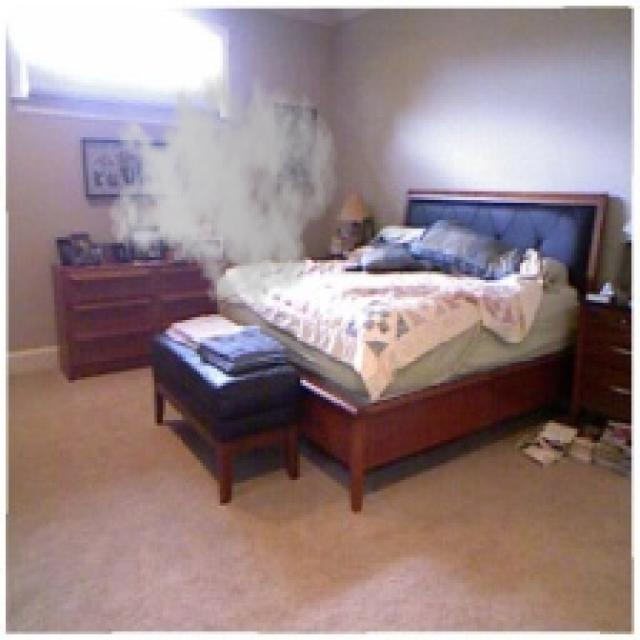Smoke: (108, 43, 340, 314)
